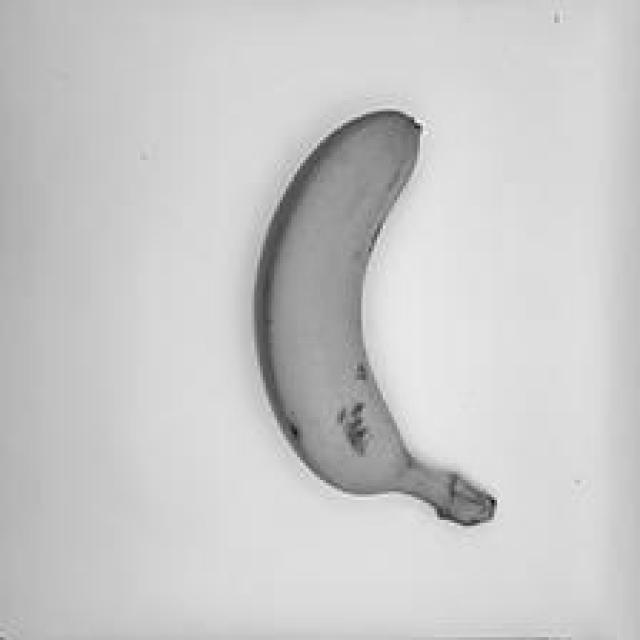Unripe: (244, 94, 501, 548)
